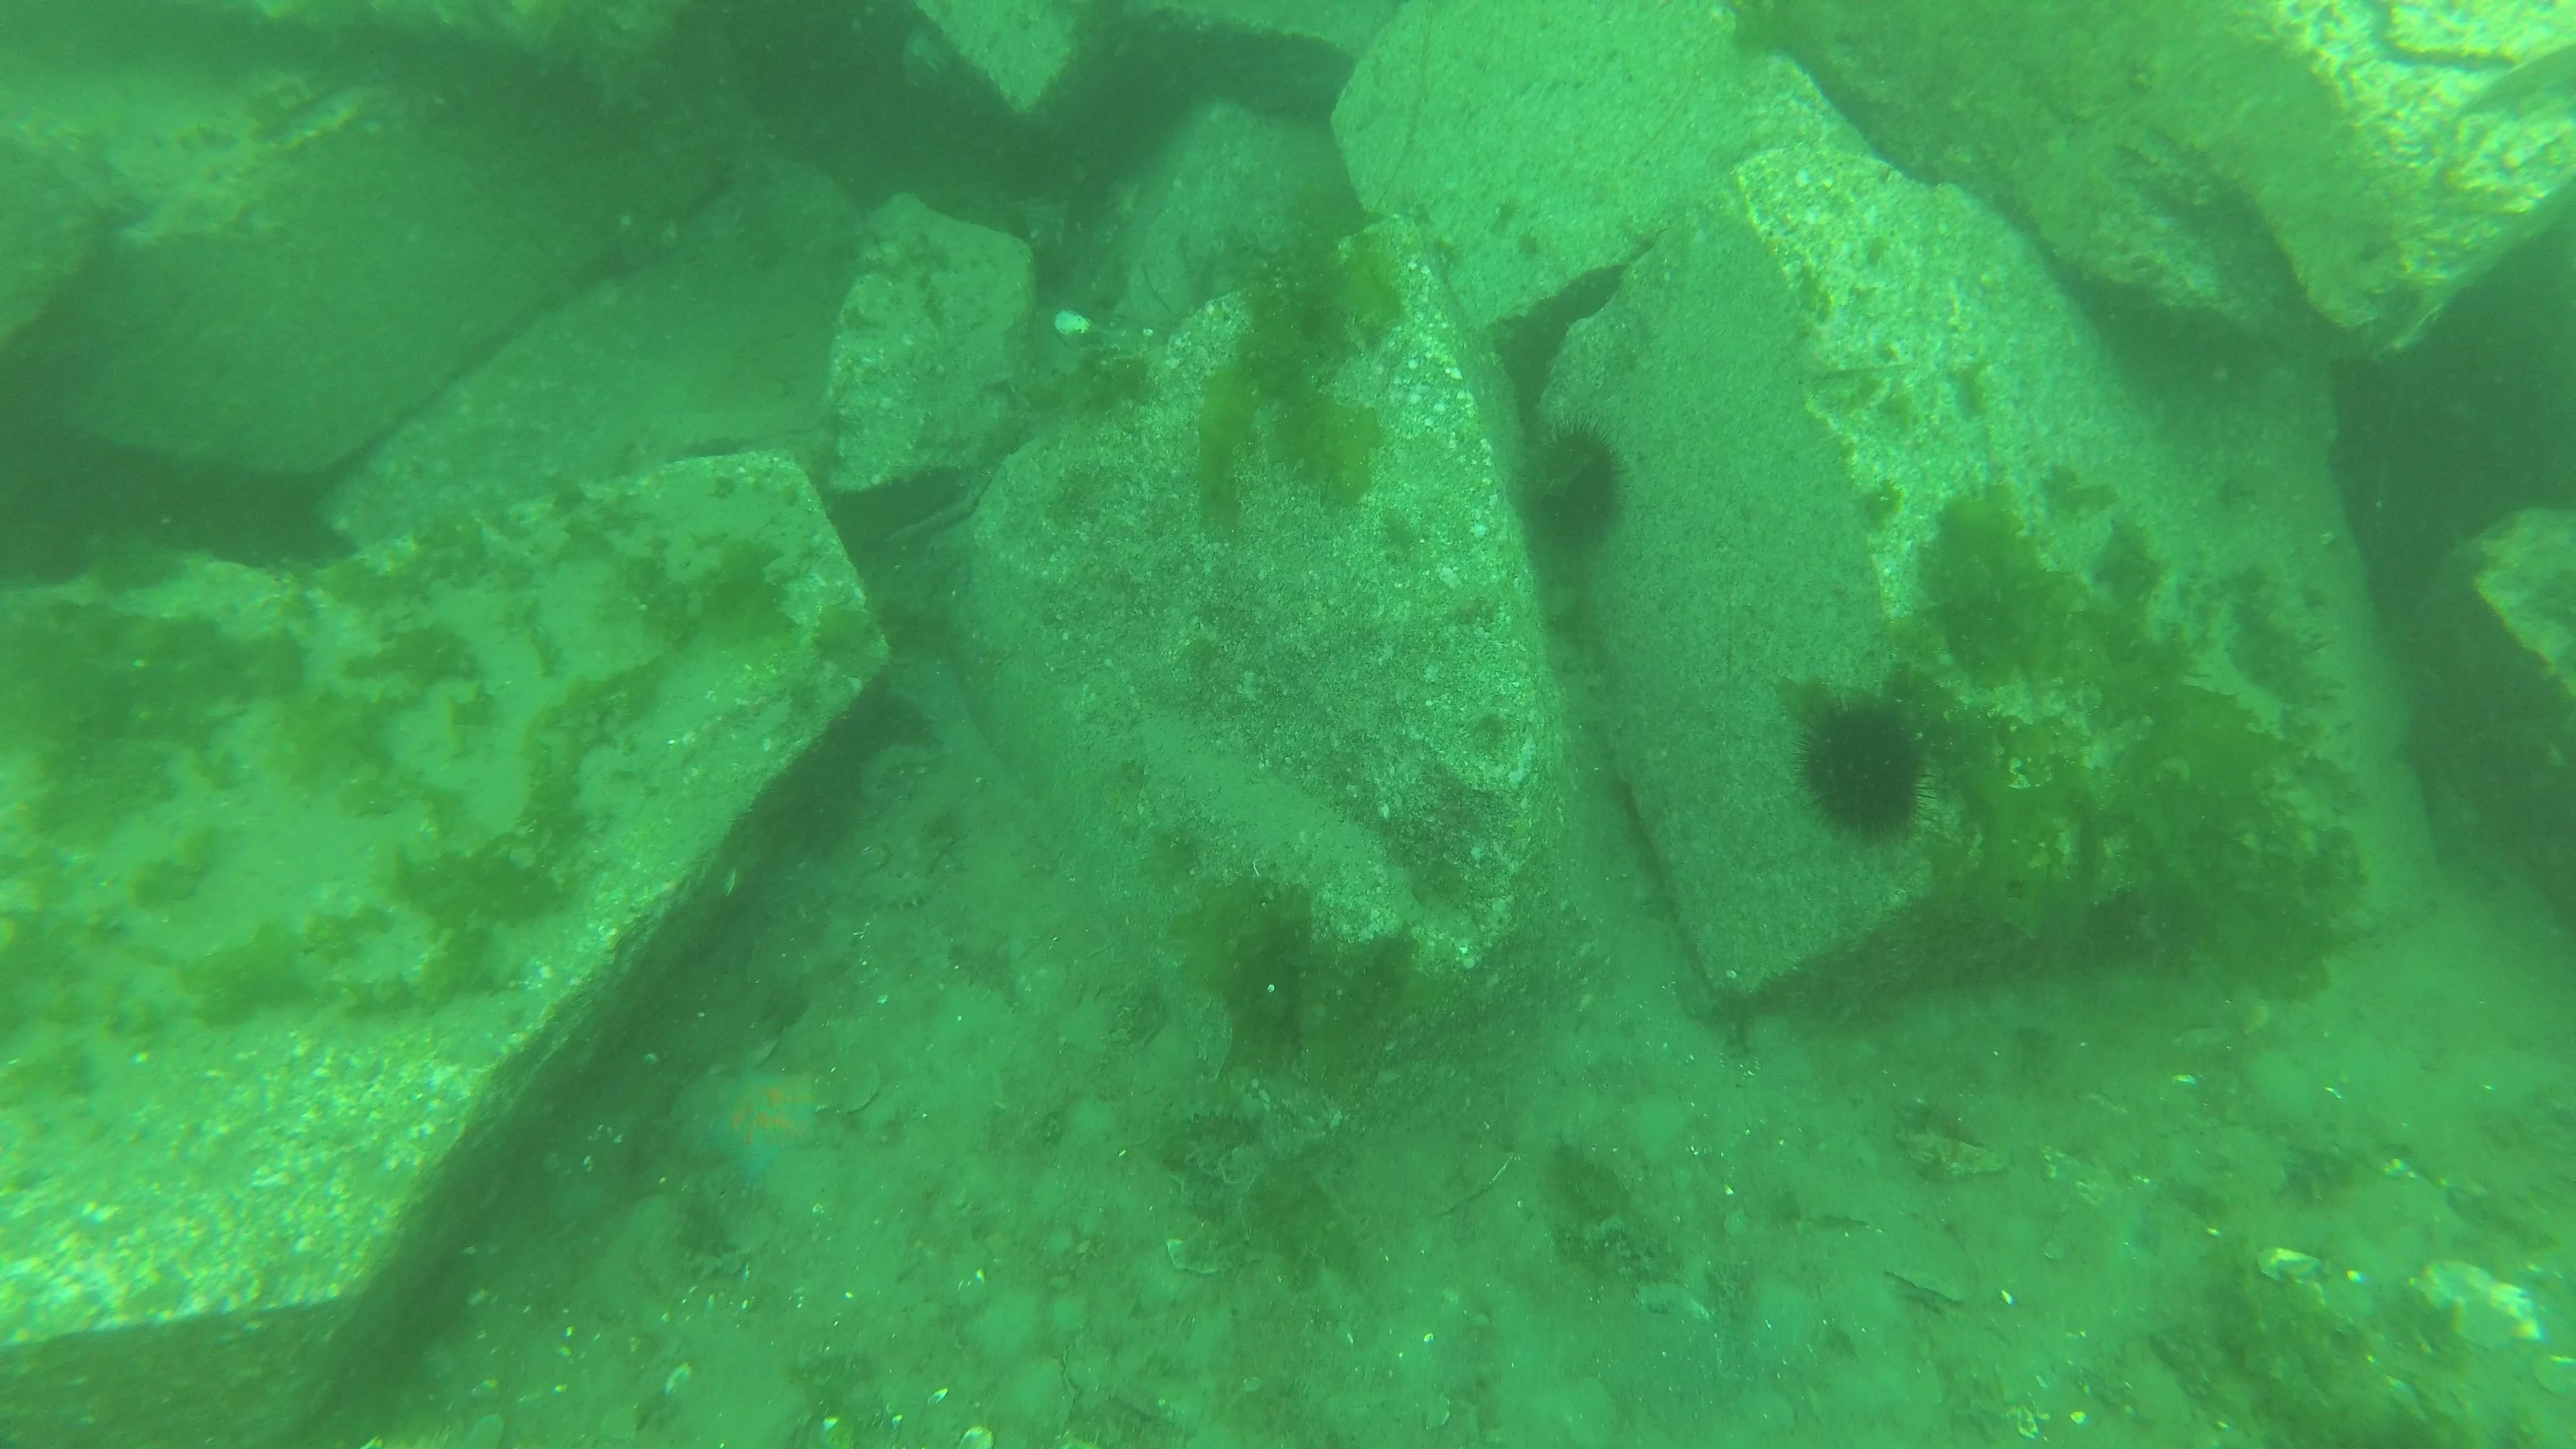echinus: (1792, 694, 1943, 840), (1518, 409, 1633, 557)
holothurian: (715, 111, 787, 272), (1168, 1065, 1263, 1127), (860, 741, 931, 803), (858, 872, 934, 911), (1102, 175, 1143, 218)
scallop: (1054, 308, 1092, 336)
starfish: (697, 1069, 821, 1178)
